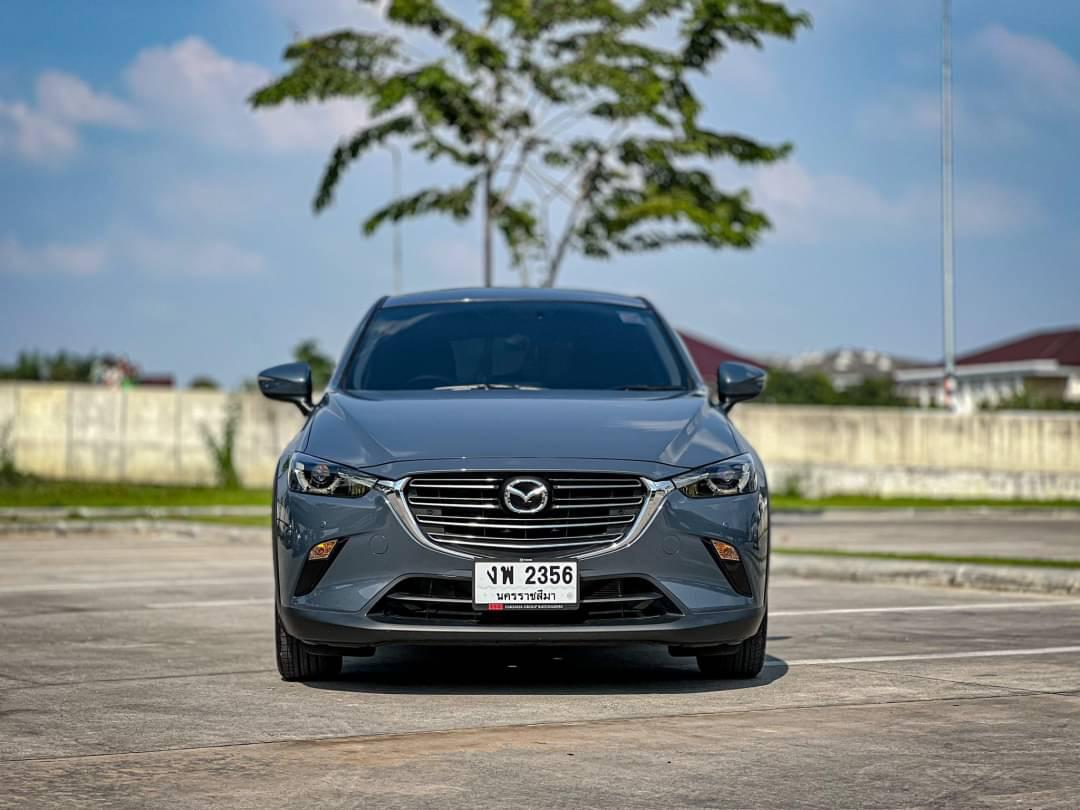license-plate: (470, 554, 583, 613)
